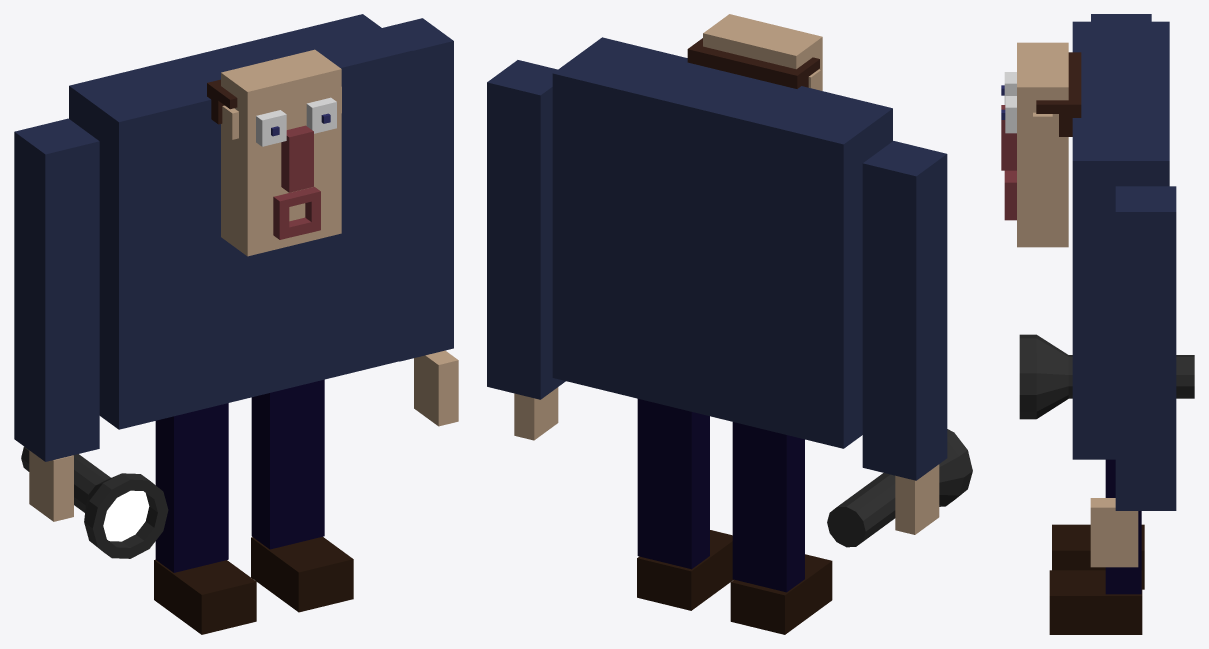
Rendered from Man.glb.
3 renders of one model, left to right at view 1: azimuth 30°, elevation 25°; view 2: azimuth 150°, elevation 25°; view 3: azimuth 270°, elevation 25°, orthographic. The views are drawn at different scales.
Parts seen in each view (by area): view 1: Cube, Cube.003, Cube.001, Cube.002, Cube.004, Cube.005, Cylinder, Cube.006, Cube.007, Cube.008, Cube.009, Cube.010 (+4 smaller); view 2: Cube, Cube.003, Cube.002, Cube.004, Cube.005, Cylinder, Cube.007, Cube.006, Cube.001, Cube.013, Cube.009, Cube.008; view 3: Cube, Cube.002, Cube.001, Cube.006, Cylinder, Cube.008, Cube.007, Cube.004, Cube.013, Cube.010, Cube.016, Cube.014 (+3 smaller).
Part boxes in pixels (x1,y1,x2,y2): Cube: (69, 14, 412, 429); Cube.003: (14, 118, 99, 461); Cube.001: (221, 49, 341, 256); Cube.002: (382, 18, 453, 361); Cube.004: (251, 379, 324, 549); Cube.005: (155, 403, 228, 572); Cylinder: (21, 446, 168, 558); Cube.006: (251, 536, 353, 612); Cube.007: (154, 559, 256, 634); Cube.008: (414, 350, 458, 426); Cube.009: (29, 450, 73, 521); Cube.010: (281, 125, 313, 192); Cube: (552, 37, 892, 448); Cube.003: (862, 141, 947, 480); Cube.002: (487, 60, 565, 399); Cube.004: (637, 399, 709, 569); Cube.005: (732, 422, 804, 592); Cylinder: (827, 429, 972, 547); Cube.007: (730, 554, 832, 634); Cube.006: (637, 530, 733, 610); Cube.001: (703, 14, 822, 90); Cube.013: (687, 38, 819, 88); Cube.009: (895, 464, 939, 534); Cube.008: (514, 387, 558, 440); Cube: (1072, 21, 1169, 459); Cube.002: (1115, 186, 1176, 510); Cube.001: (1017, 42, 1068, 247); Cube.006: (1049, 570, 1142, 634); Cylinder: (1019, 334, 1194, 419); Cube.008: (1090, 498, 1138, 567); Cube.007: (1052, 524, 1144, 589); Cube.004: (1105, 459, 1141, 594); Cube.013: (1036, 52, 1081, 136); Cube.010: (1001, 105, 1016, 170); Cube.016: (1004, 170, 1016, 220); Cube.014: (1033, 112, 1052, 142).
Size of the model in its own units: 2.87 by 3.57 by 1.17.
